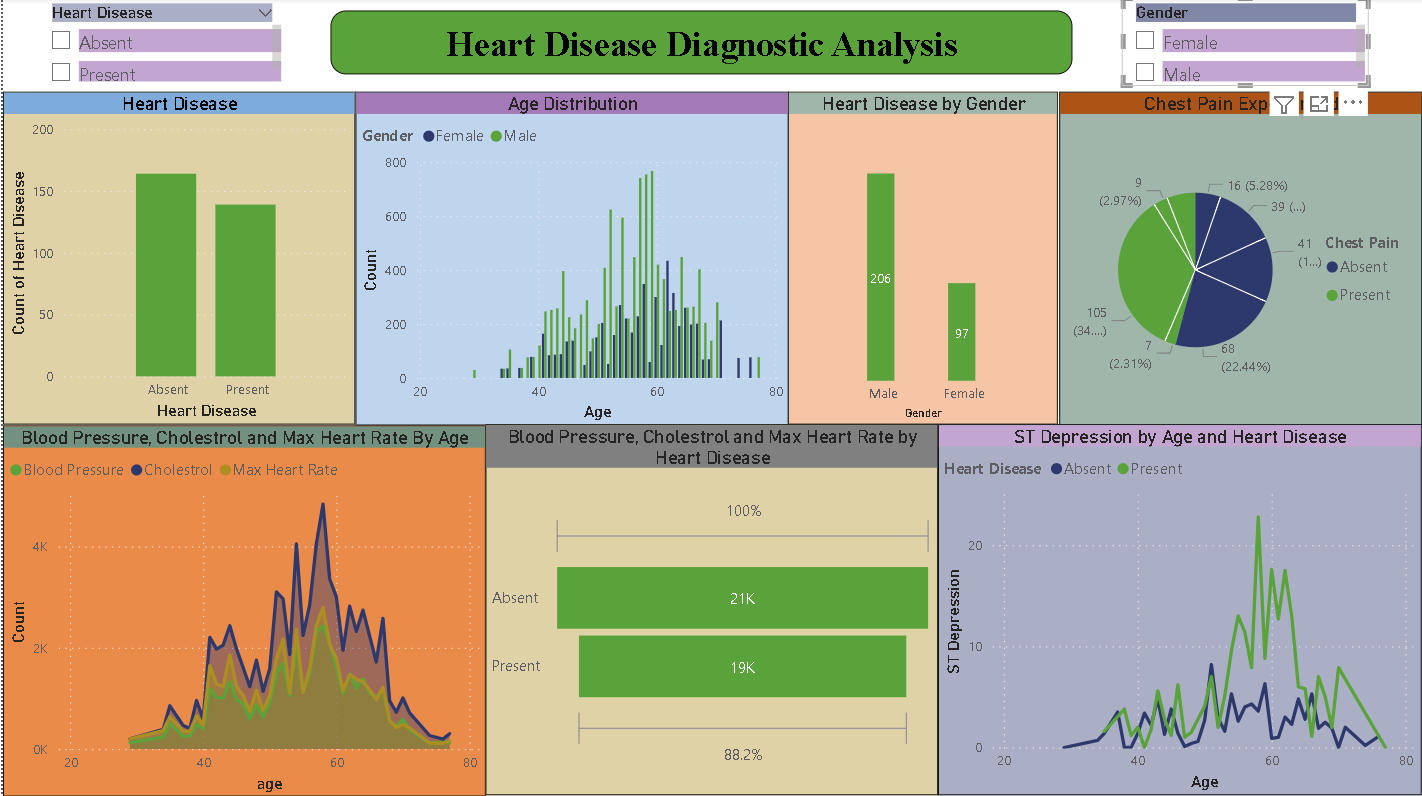

The dashboard page shown, as its layout file describes it:
{"tool":"powerbi","page":{"name":"Dashboard","canvas":[1280,720],"ordinal":0},"visuals":[{"type":"ribbonChart","title":"Heart Disease by Gender","fields":{"Category":["heart_disease_dataset.Gender"],"Y":["CountNonNull(heart_disease_dataset.Heart Disease)"]},"box":[708.1,84.8,243.6,299.7],"z":0},{"type":"lineStackedColumnComboChart","title":"Heart Disease","fields":{"Category":["heart_disease_dataset.Heart Disease"],"Y":["CountNonNull(heart_disease_dataset.Heart Disease)"]},"box":[0,84.8,317.6,299.7],"z":1000},{"type":"clusteredColumnChart","title":"Age Distribution","fields":{"Category":["heart_disease_dataset.age"],"Y":["Sum(heart_disease_dataset.age)"],"Series":["heart_disease_dataset.Gender"]},"box":[317.6,84.8,390.4,300.9],"z":2000},{"type":"pieChart","title":"Chest Pain Experienced","fields":{"Category":["heart_disease_dataset.Heart Disease"],"Y":["CountNonNull(heart_disease_dataset.chest pain)"],"Series":["heart_disease_dataset.chest pain"]},"box":[951.6,84.8,327.2,300.9],"z":3000},{"type":"areaChart","title":"Blood Pressure, Cholestrol and Max Heart Rate By Age","fields":{"Category":["heart_disease_dataset.age"],"Y":["Sum(heart_disease_dataset.Blood Pressure)","Sum(heart_disease_dataset.Cholestrol)","Sum(heart_disease_dataset.Max Heart Rate)"]},"box":[0,385.4,434.9,334.6],"z":4000},{"type":"funnel","title":"Blood Pressure, Cholestrol and Max Heart Rate by Heart Disease","fields":{"Category":["heart_disease_dataset.Heart Disease"],"Y":["Sum(heart_disease_dataset.Blood Pressure)"]},"box":[434.6,384.5,408.4,334.3],"z":5000},{"type":"lineChart","title":"ST Depression by Age and Heart Disease","fields":{"Category":["heart_disease_dataset.age"],"Series":["heart_disease_dataset.Heart Disease"],"Y":["Sum(heart_disease_dataset.oldpeak)"]},"box":[843,384.5,435.8,334.3],"z":6000},{"type":"slicer","fields":{"Values":["heart_disease_dataset.Gender"]},"box":[1008,0,224,80],"z":7000},{"type":"slicer","fields":{"Values":["heart_disease_dataset.Heart Disease"]},"box":[32,0,224,80],"z":8000},{"type":"textbox","box":[294.9,10.7,668.7,57.3],"z":9000}]}

Visuals, with their boxes in screenshot pixels (x1, y1, x2, y2), scaled from the page's 1280x720 canvas onto the 1422x796 screenshot:
"Heart Disease by Gender" ribbonChart: (787,94,1057,425)
"Heart Disease" lineStackedColumnComboChart: (0,94,353,425)
"Age Distribution" clusteredColumnChart: (353,94,787,426)
"Chest Pain Experienced" pieChart: (1057,94,1421,426)
"Blood Pressure, Cholestrol and Max Heart Rate By Age" areaChart: (0,426,483,795)
"Blood Pressure, Cholestrol and Max Heart Rate by Heart Disease" funnel: (483,425,937,795)
"ST Depression by Age and Heart Disease" lineChart: (937,425,1421,795)
slicer - heart_disease_dataset.Gender: (1120,0,1369,88)
slicer - heart_disease_dataset.Heart Disease: (36,0,284,88)
textbox: (328,12,1070,75)
